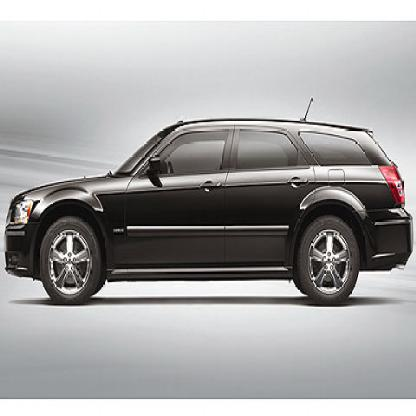Vehicle: (4, 95, 415, 311)
